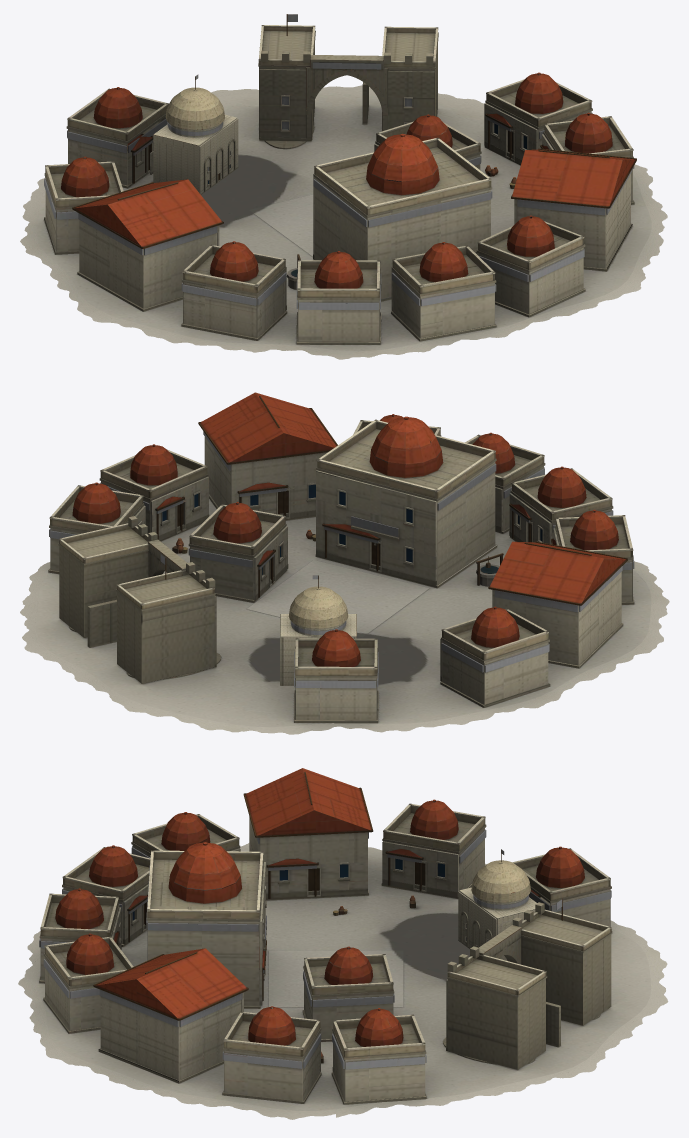
The model's file is gunpowder-town-medium-a-israelite-2f53aaaf.glb.
The picture shows the model from 3 angles, top to bottom: view 1: azimuth 30°, elevation 25°; view 2: azimuth 150°, elevation 25°; view 3: azimuth 270°, elevation 25°; orthographic projection.
Parts seen in each view (by area): view 1: LOD0; view 2: LOD0; view 3: LOD0.
Boxes of the visible parts, <box> form: LOD0: <box>20,14,667,359</box>; LOD0: <box>20,392,669,734</box>; LOD0: <box>18,768,668,1119</box>.
Size of what is drawn, in the model's own units: 6.04 by 1.36 by 5.92.
3 materials, 3 textured.
